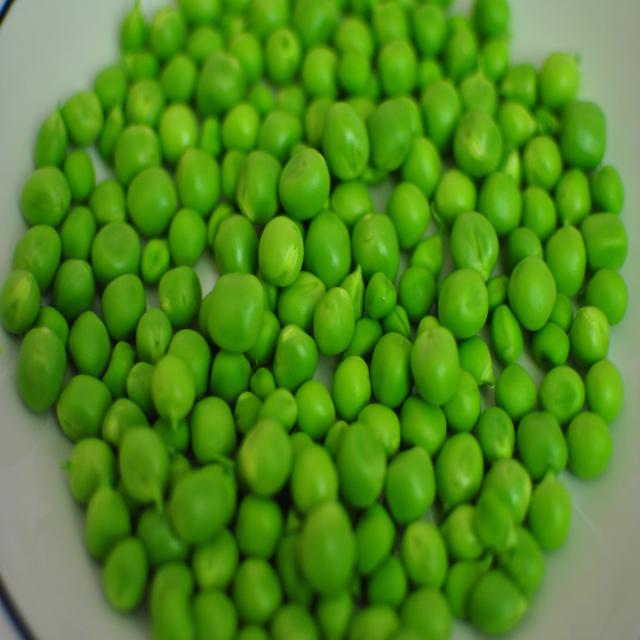Peas: (89, 63, 596, 605), (250, 156, 351, 308), (271, 364, 374, 488), (428, 179, 516, 291), (410, 316, 460, 406), (210, 272, 265, 352)
